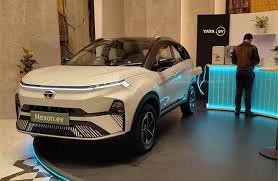Tata Nexon: (14, 35, 198, 156)
